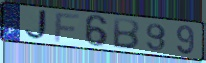6: (83, 14, 110, 49)
9: (145, 23, 167, 52), (175, 25, 195, 56)
B: (111, 17, 141, 51)
F: (53, 12, 81, 44)
J: (24, 9, 51, 42)
